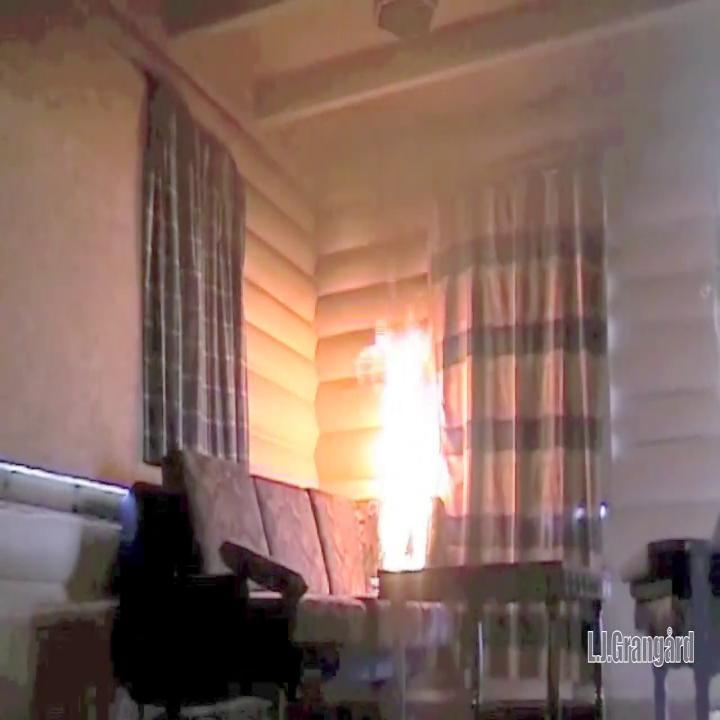fire: (354, 316, 462, 596)
